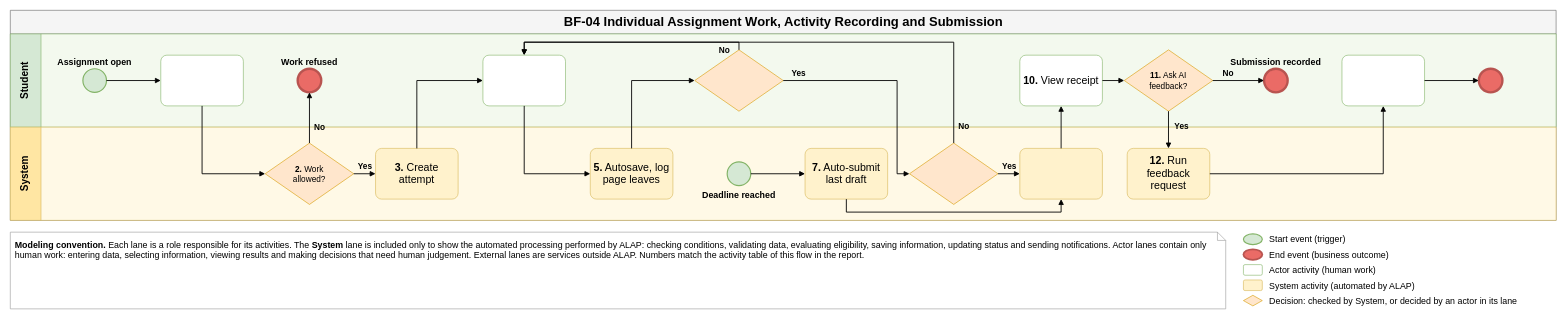
Image size: 1566x319. Some labels were removed from this diagram. Here are the shapes that lost their labels. From the top down, the centre of each, then its label:
At (201,80): "1. Start work".
At (524,80): "4. Edit document and diagrams".
At (738,80): "6. Ready to submit?".
At (1383,80): "13. Review feedback".
At (1490,80): "Feedback received".
At (953,173): "8. Content valid?".
At (1060,173): "9. Freeze submission".
